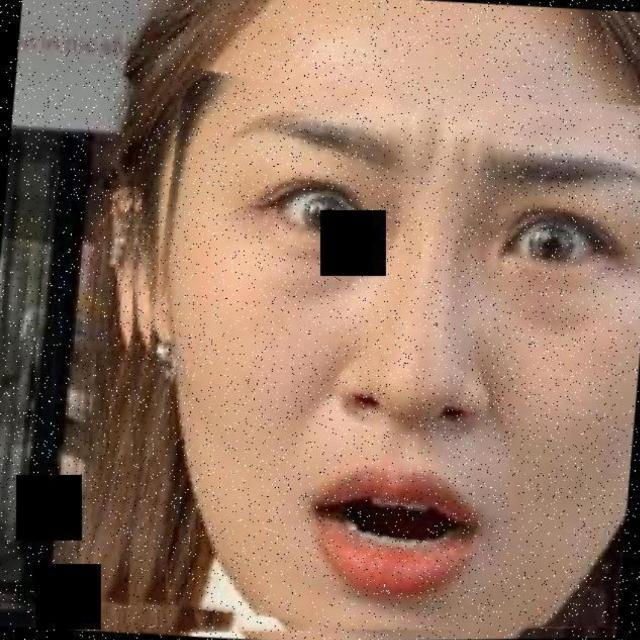Surprised: (170, 5, 639, 640)
